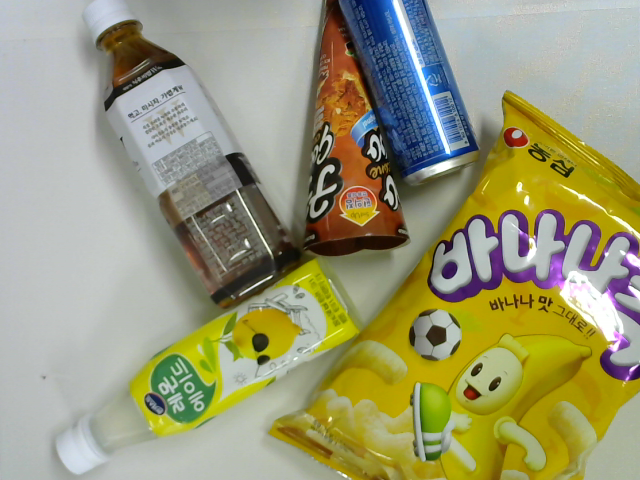Banana_Kick: (264, 87, 640, 480)
GooGoo_Cone_CVS: (300, 1, 414, 257)
Pepsi_Cola_Can_250ml: (336, 1, 486, 187)
Post-meal_recipe_W_tea_500ml: (80, 1, 307, 309)
Sunkist_Lemonaid_Pet: (53, 255, 370, 477)
